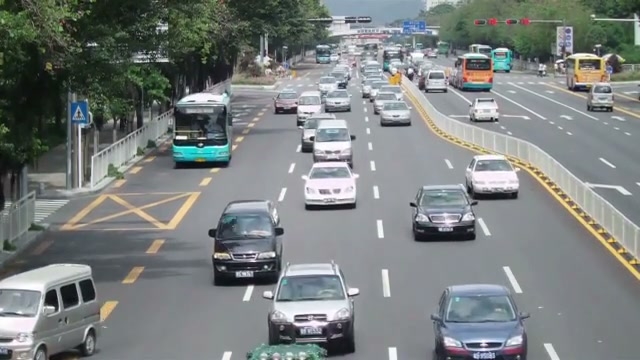bus: (170, 89, 233, 168), (565, 53, 610, 92), (450, 53, 494, 91), (491, 48, 513, 72)
car: (264, 261, 359, 355), (430, 283, 530, 359), (208, 201, 285, 285), (409, 183, 478, 242), (302, 161, 358, 210), (464, 155, 520, 200), (311, 123, 355, 166), (300, 115, 338, 152), (296, 91, 323, 127), (468, 96, 500, 123), (373, 89, 407, 114), (380, 101, 412, 127), (586, 83, 614, 112), (273, 89, 299, 114), (324, 89, 352, 112), (423, 70, 448, 94)
truck: (0, 262, 106, 358), (565, 53, 610, 92), (450, 54, 494, 91)
